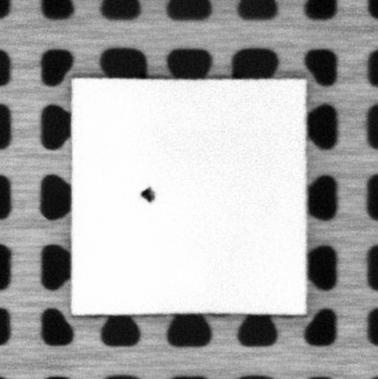DIE_INK: (139, 183, 155, 203)
